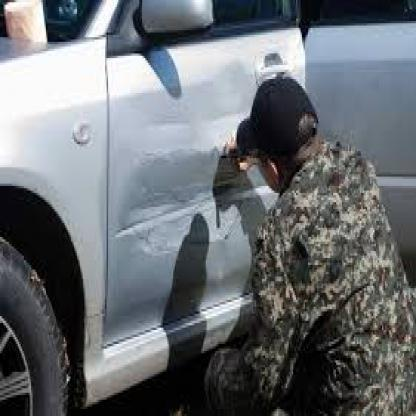dent: (122, 148, 233, 256)
